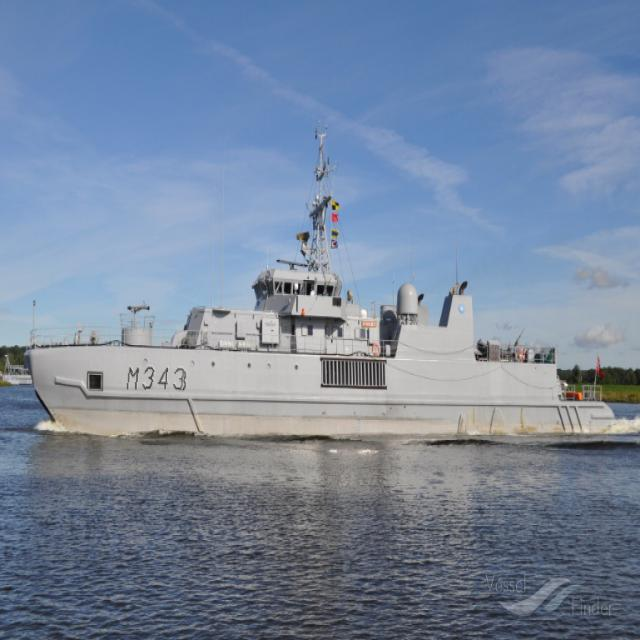OCR: (126, 358, 186, 392)
